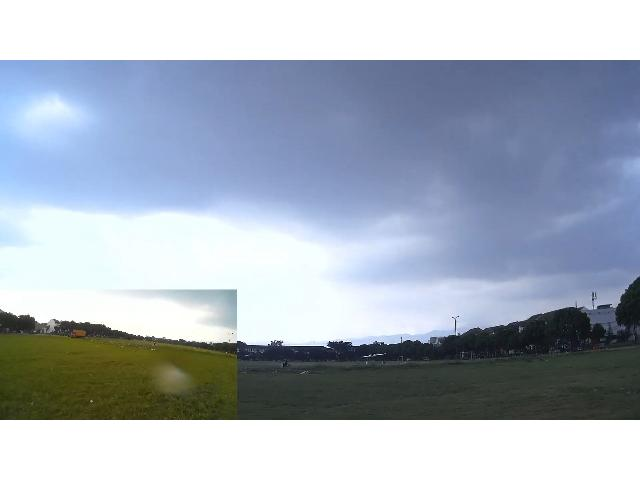Anti-Drone: (354, 342, 400, 366)
